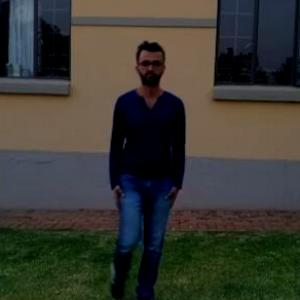follow: (111, 43, 188, 299)
